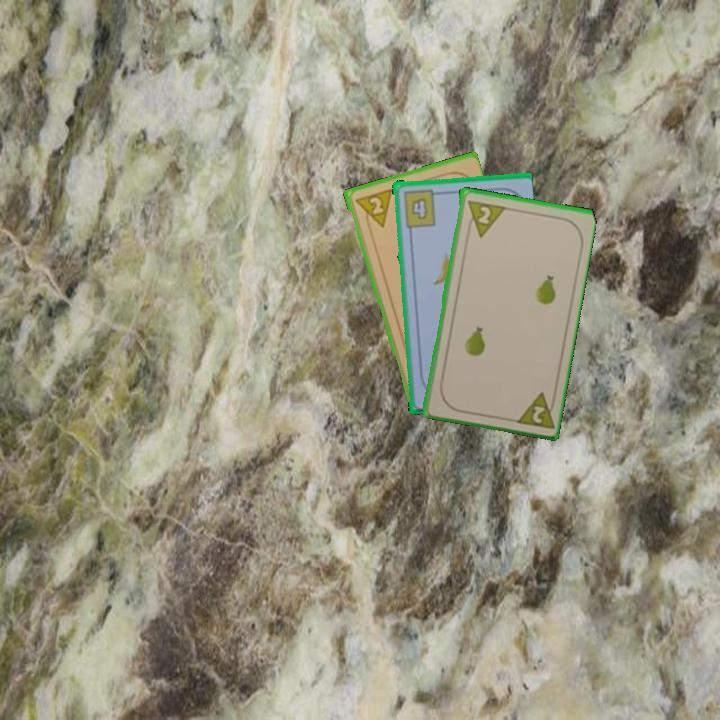2p: (350, 185, 394, 233), (510, 388, 558, 431), (462, 196, 506, 240)
4b: (399, 185, 442, 229)
